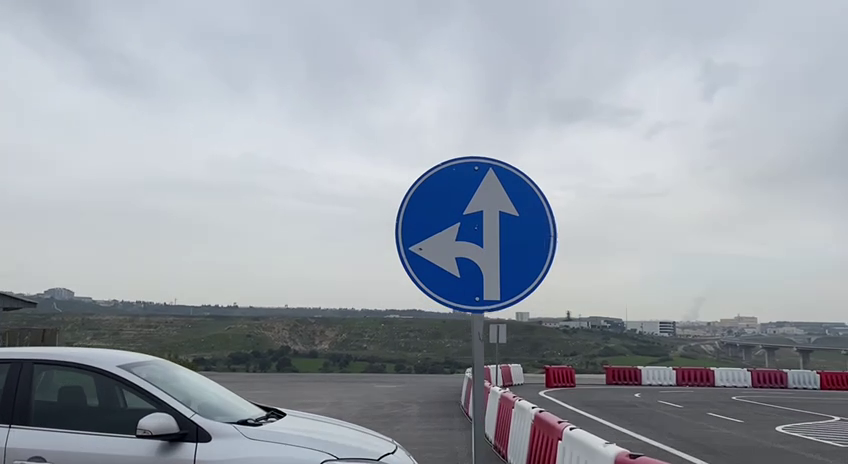forwardAndLeft: (388, 154, 564, 317)
